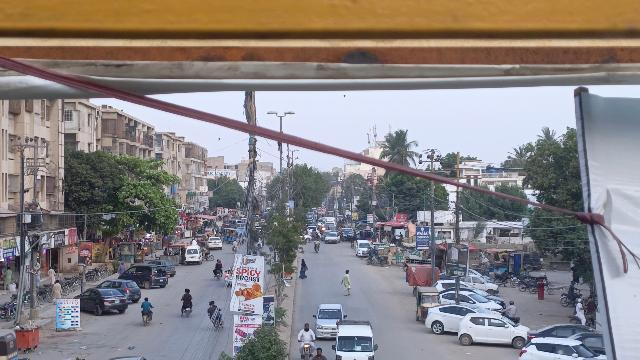Bike: (568, 312, 597, 327), (297, 338, 315, 360), (209, 317, 227, 334), (181, 304, 193, 321), (141, 310, 151, 329), (214, 269, 223, 283), (314, 244, 320, 254)
Car: (455, 310, 528, 348), (516, 337, 605, 360), (425, 304, 472, 335), (75, 288, 126, 316), (119, 263, 169, 289), (442, 291, 501, 312), (313, 301, 344, 339), (99, 279, 141, 301)
Person: (296, 322, 316, 343), (205, 298, 222, 319), (340, 268, 352, 297), (574, 297, 586, 320), (180, 287, 195, 305), (52, 278, 62, 302), (506, 298, 518, 318), (140, 296, 153, 313), (299, 258, 309, 280), (212, 257, 224, 271), (313, 237, 320, 245)
Rickshaw: (412, 285, 440, 323)
Van: (332, 321, 377, 360), (185, 245, 202, 266)
